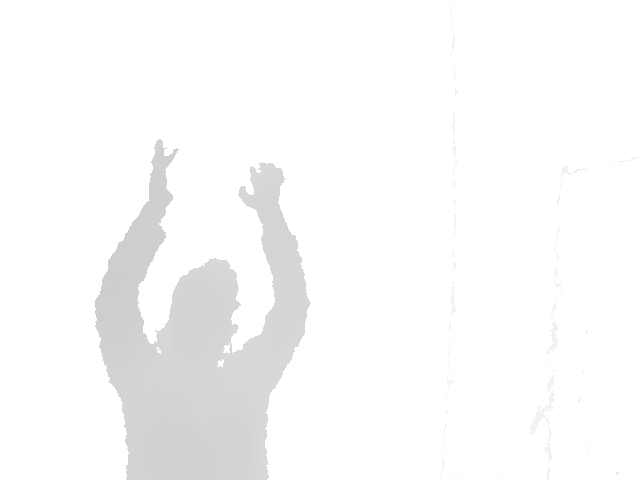hand: (237, 161, 285, 209), (147, 139, 179, 208)
head: (156, 257, 240, 365)
person: (92, 137, 313, 480)
